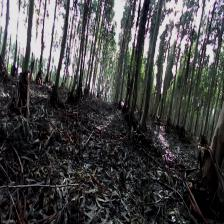trunk: (138, 7, 162, 131), (53, 4, 70, 96), (19, 4, 34, 92), (1, 0, 10, 65)
